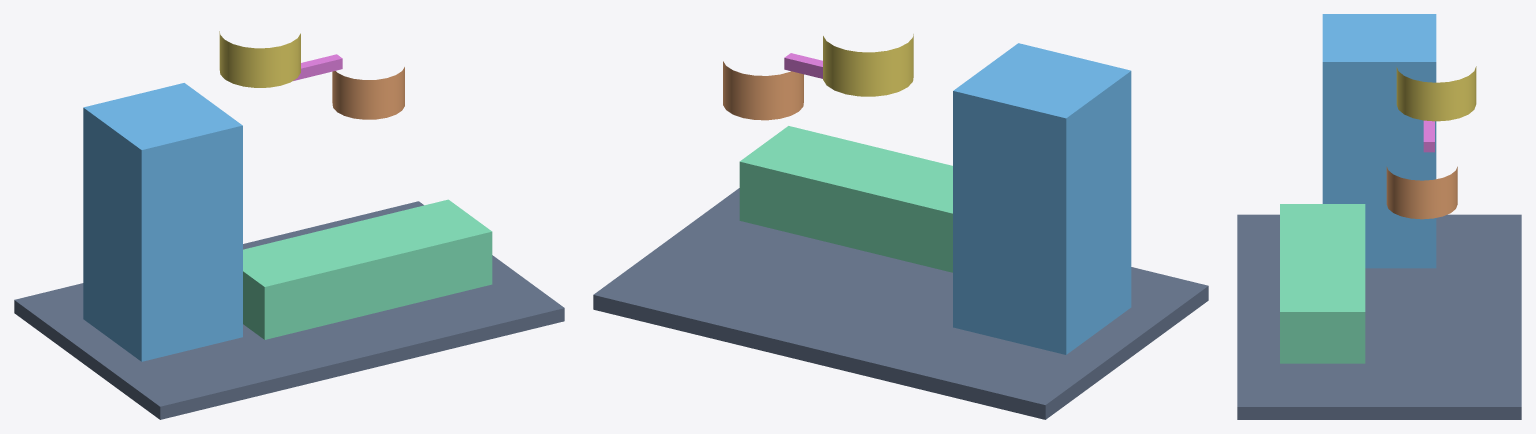
The model's file is data_structures.glb.
3 renders of one model, left to right at view 1: azimuth 30°, elevation 25°; view 2: azimuth 150°, elevation 25°; view 3: azimuth 270°, elevation 25°, orthographic. The views are drawn at different scales.
Visible parts, largest first — view 1: StackContainer, BasePlatform, QueueBuffer, TreeNodeRoot, LinkedListHead, PointerArrow; view 2: BasePlatform, StackContainer, QueueBuffer, TreeNodeRoot, LinkedListHead, PointerArrow; view 3: BasePlatform, StackContainer, QueueBuffer, TreeNodeRoot, LinkedListHead, PointerArrow.
Part boxes in pixels (x1=…): StackContainer: x1=83, y1=83, x2=242, y2=361; BasePlatform: x1=14, y1=201, x2=564, y2=419; QueueBuffer: x1=243, y1=199, x2=492, y2=339; TreeNodeRoot: x1=219, y1=31, x2=300, y2=87; LinkedListHead: x1=332, y1=67, x2=404, y2=119; PointerArrow: x1=293, y1=54, x2=342, y2=80; BasePlatform: x1=593, y1=188, x2=1208, y2=419; StackContainer: x1=953, y1=43, x2=1131, y2=354; QueueBuffer: x1=739, y1=126, x2=952, y2=272; TreeNodeRoot: x1=823, y1=34, x2=913, y2=96; LinkedListHead: x1=723, y1=61, x2=803, y2=120; PointerArrow: x1=784, y1=53, x2=822, y2=78; BasePlatform: x1=1237, y1=214, x2=1521, y2=419; StackContainer: x1=1322, y1=14, x2=1436, y2=268; QueueBuffer: x1=1280, y1=204, x2=1365, y2=363; TreeNodeRoot: x1=1396, y1=66, x2=1476, y2=121; LinkedListHead: x1=1386, y1=166, x2=1457, y2=219; PointerArrow: x1=1423, y1=120, x2=1434, y2=152.
Bounding box in the file's own units: 3.2 × 2 × 2.
